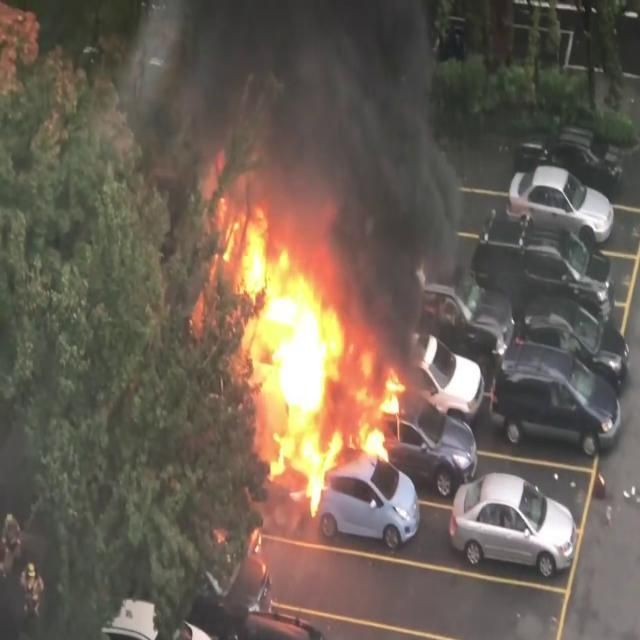Fire: (198, 200, 409, 502)
Smoke: (90, 0, 484, 287)
